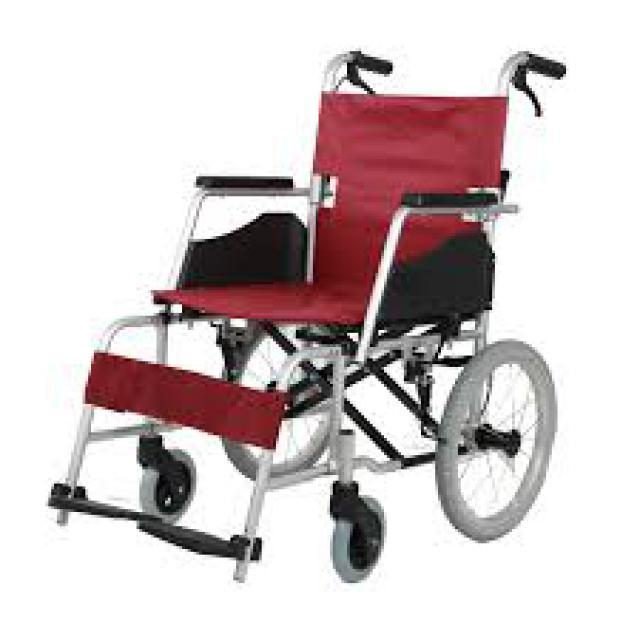wheelchair: (45, 40, 578, 626)
